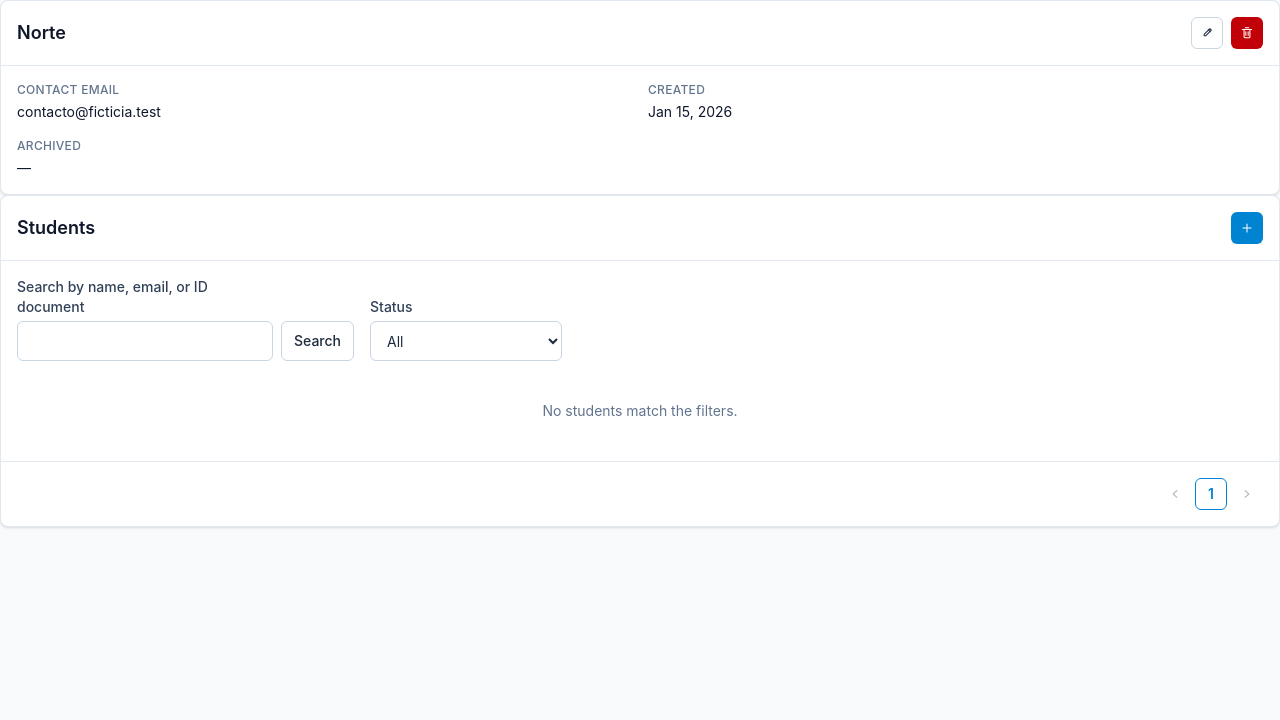
Test case: InstitutionDetailPage › doesn't archive when the dialog is cancelled
Step 1. Click the button named "Archive" → (1247, 33), box [1231,17,1263,49]
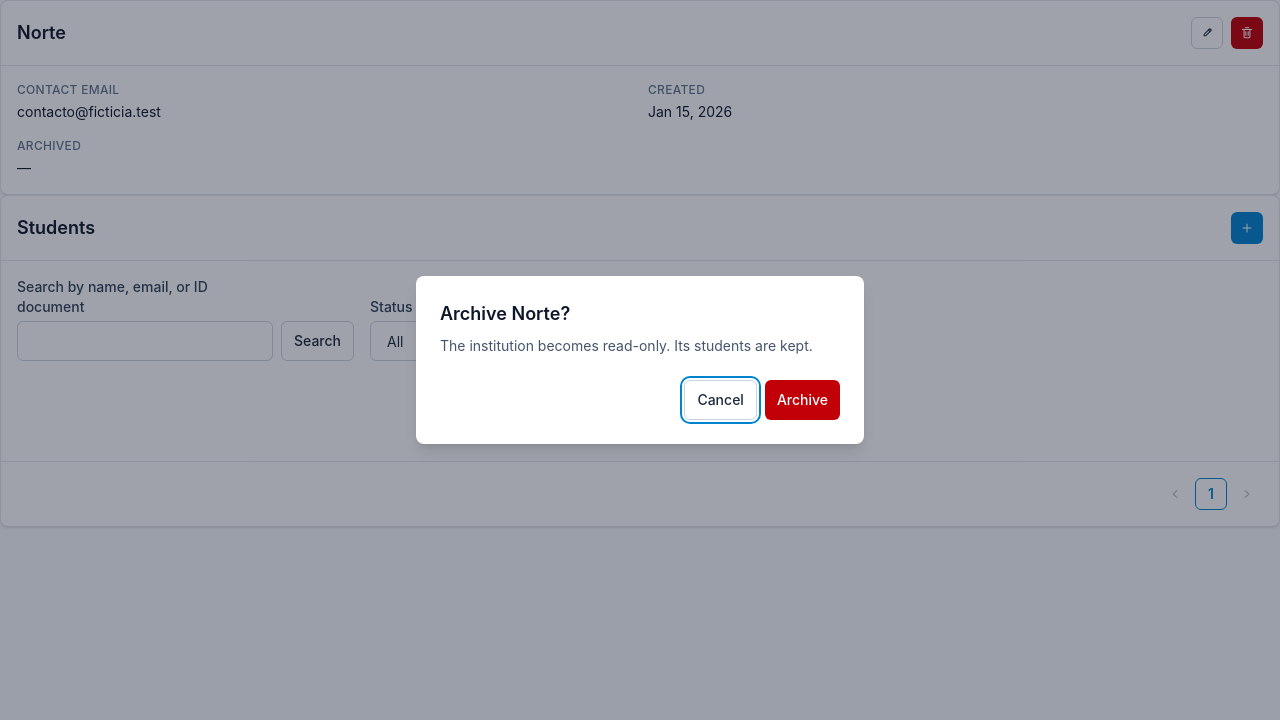
Step 2. Click the button "Cancel" → (721, 400), box [684,380,757,420]
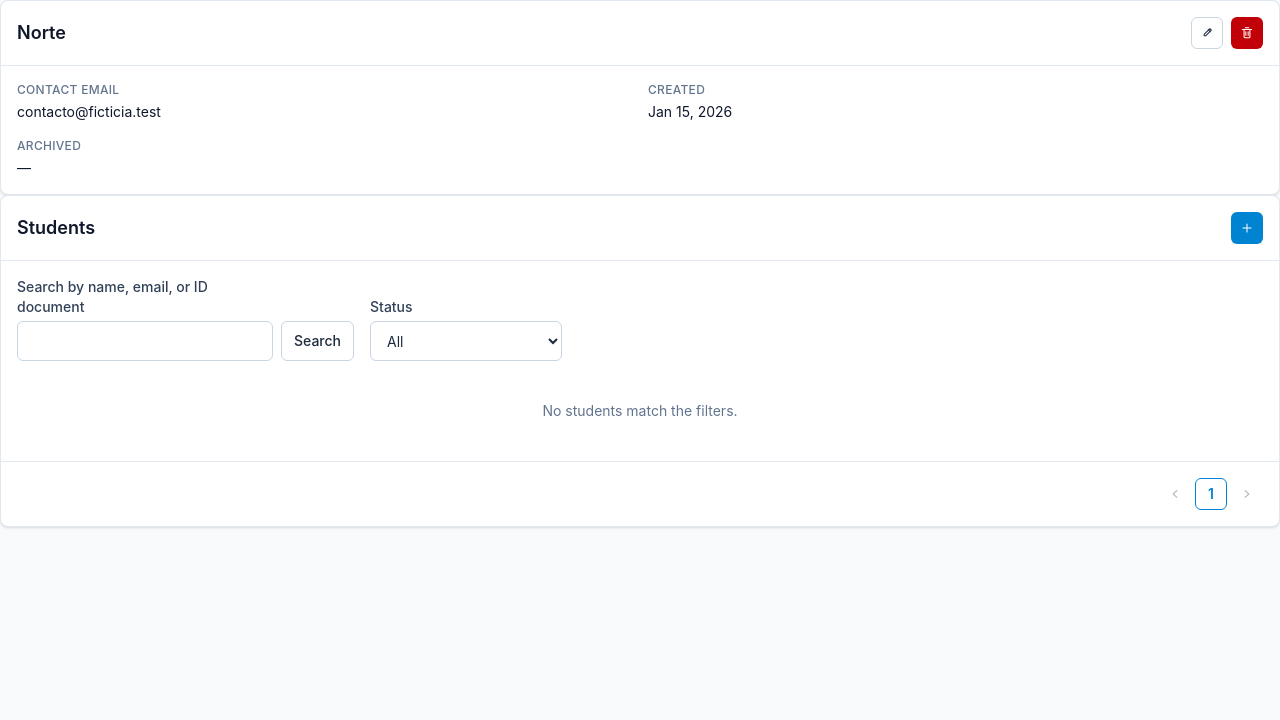
Expected: the button named "Edit" is shown, [1191,17,1223,49]
Expected: the dialog is gone
